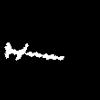double_crochet: (5, 43, 63, 59)
